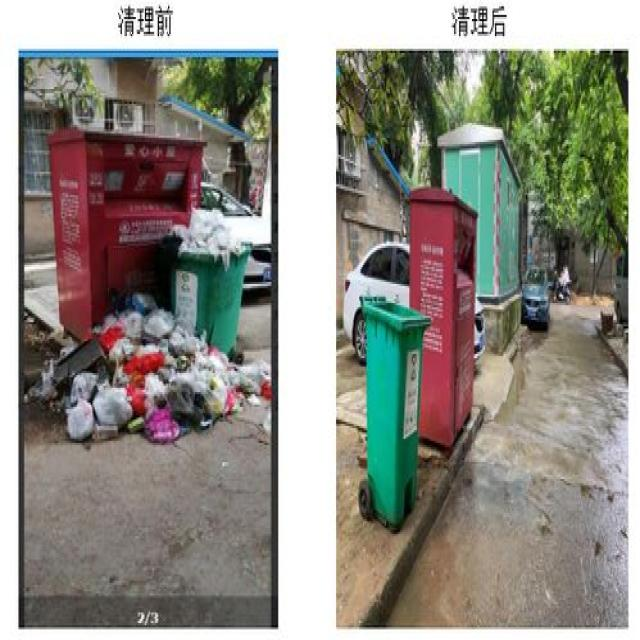garbage: (24, 292, 270, 438)
garbage_bin: (358, 290, 430, 530)
overflow: (167, 203, 250, 352)
